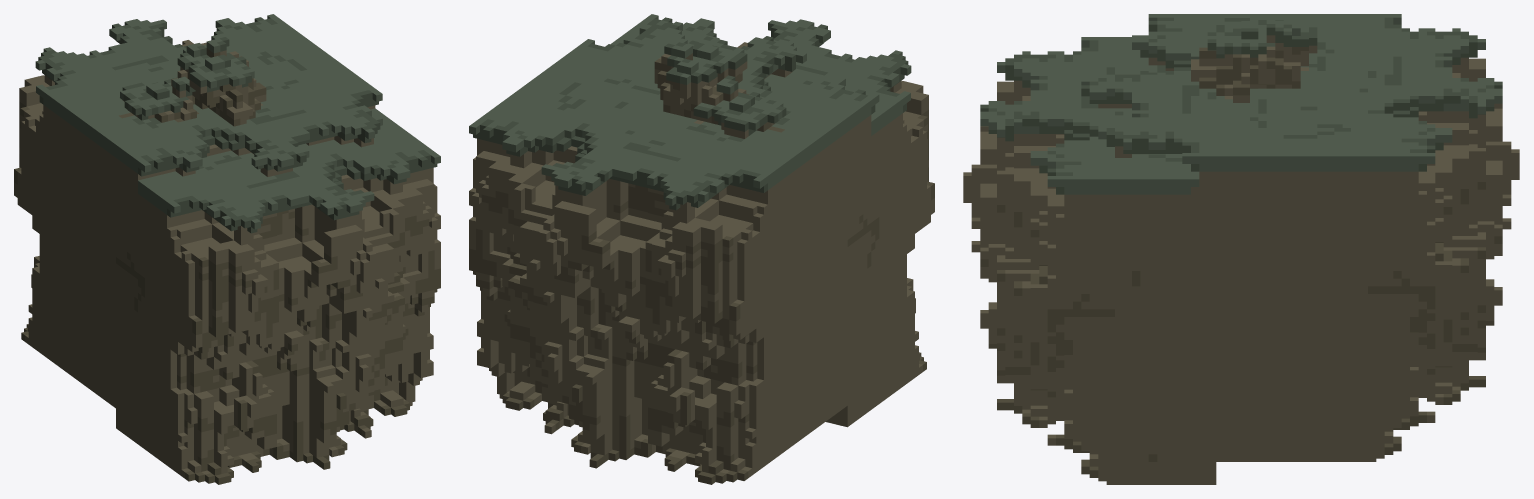
The model's file is mountain_7.obj.
3 views of the same model, side by side, from view 1: azimuth 30°, elevation 25°; view 2: azimuth 150°, elevation 25°; view 3: azimuth 270°, elevation 25° (orthographic). The views are drawn at different scales.
Size of the model in its own units: 4 by 5.1 by 6.6.
1 material, 1 textured.
